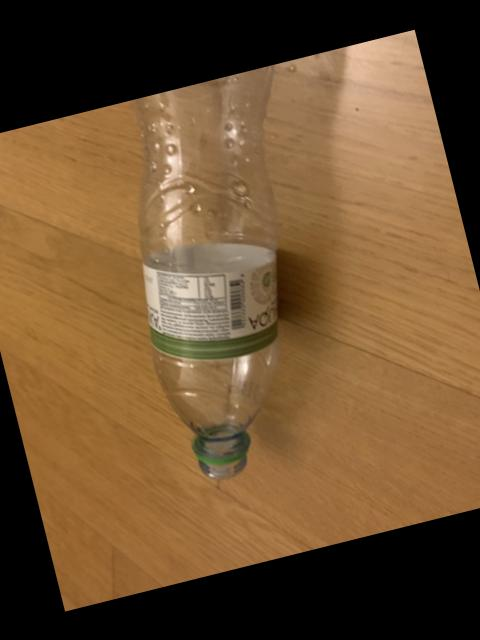plastic: (132, 65, 274, 477)
